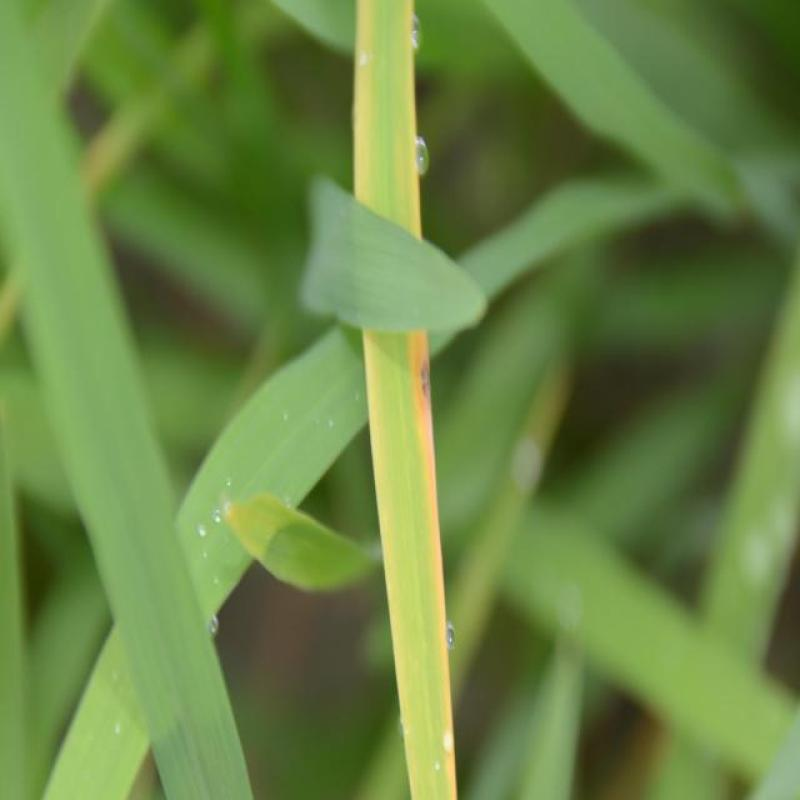Rice Tungro: (326, 17, 489, 782)
